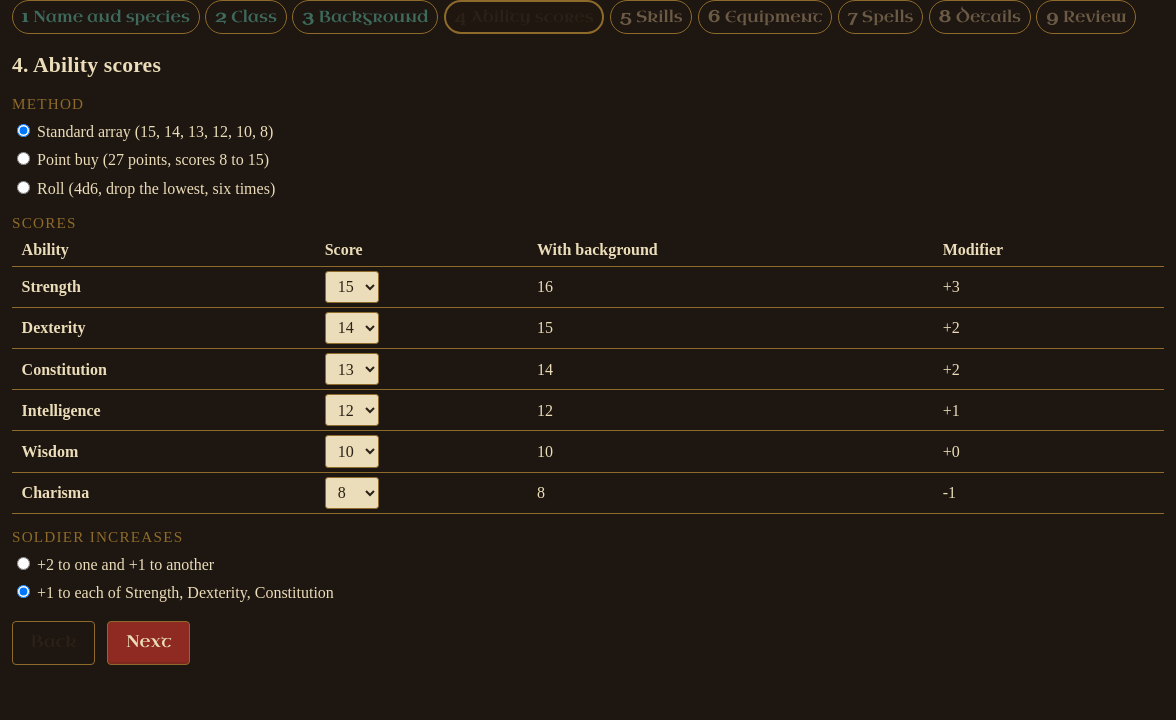
Test: the character creation wizard (P2-9) › rolls on the server once, and saves the roll with the draft at once
Click the radio button labelled "Roll (4d6, drop the lowest, six times)".
click(24, 188)  # box [17, 181, 30, 194]
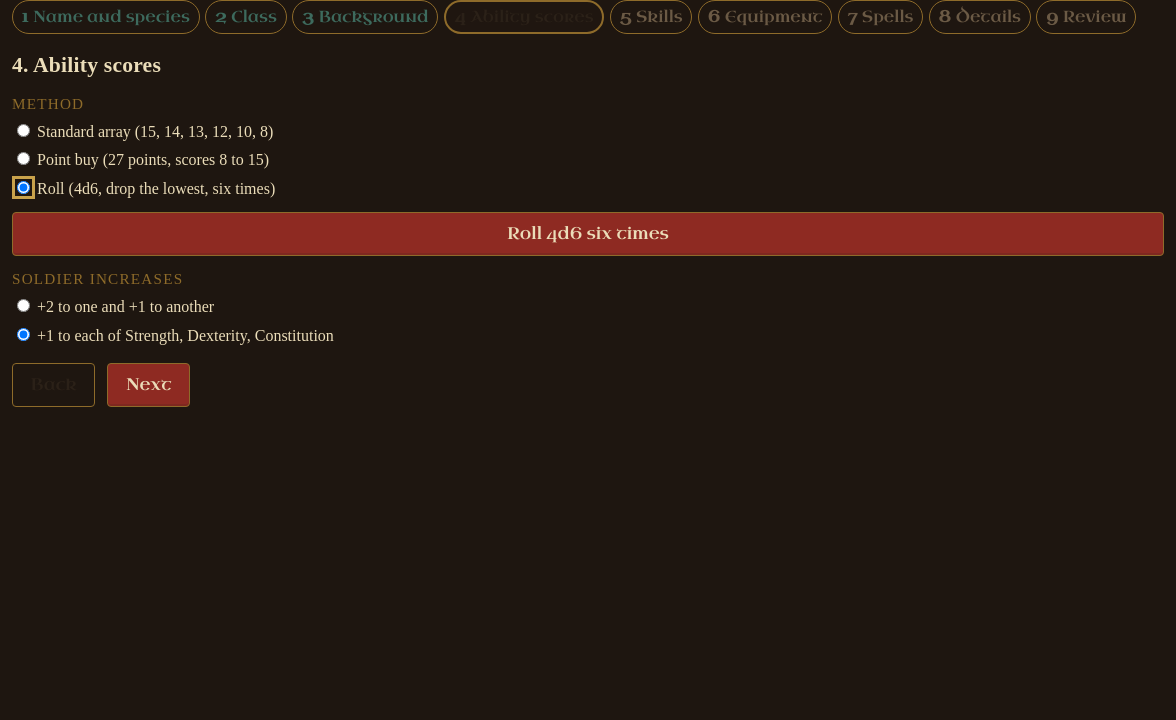
Click the button "Roll 4d6 six times".
click(588, 234)  # box [12, 212, 1164, 256]
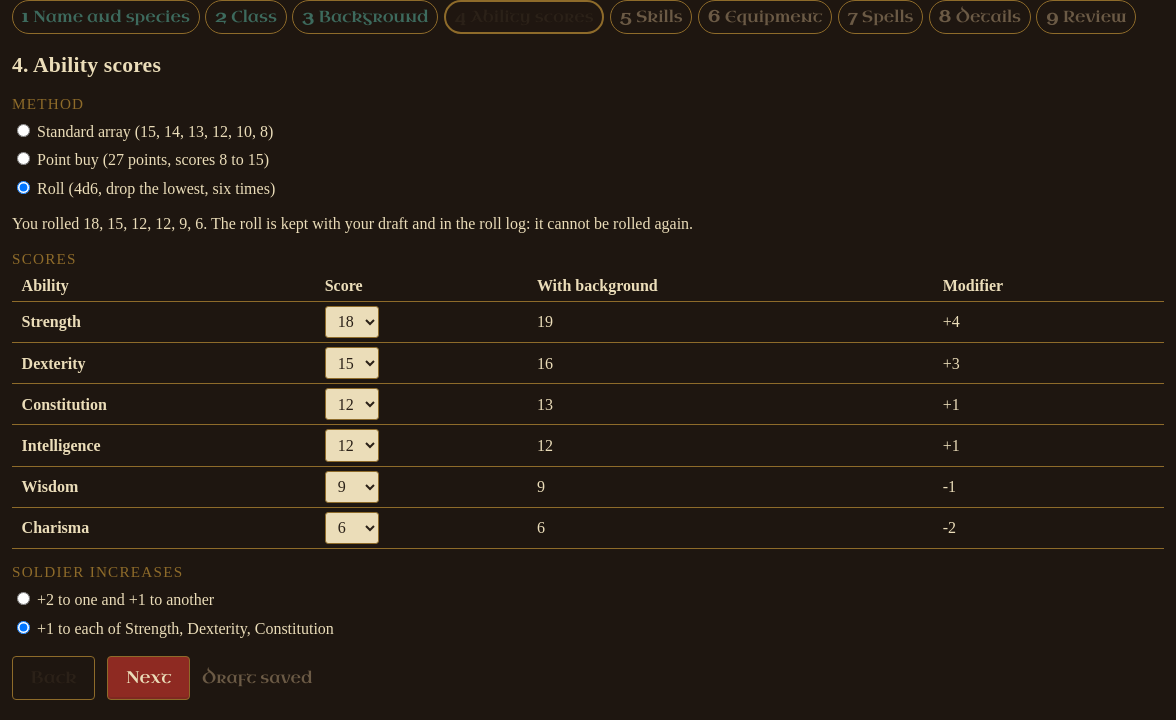
Now the text "You rolled 18, 15, 12, 12, 9, 6." is shown, box [12, 215, 693, 232]
